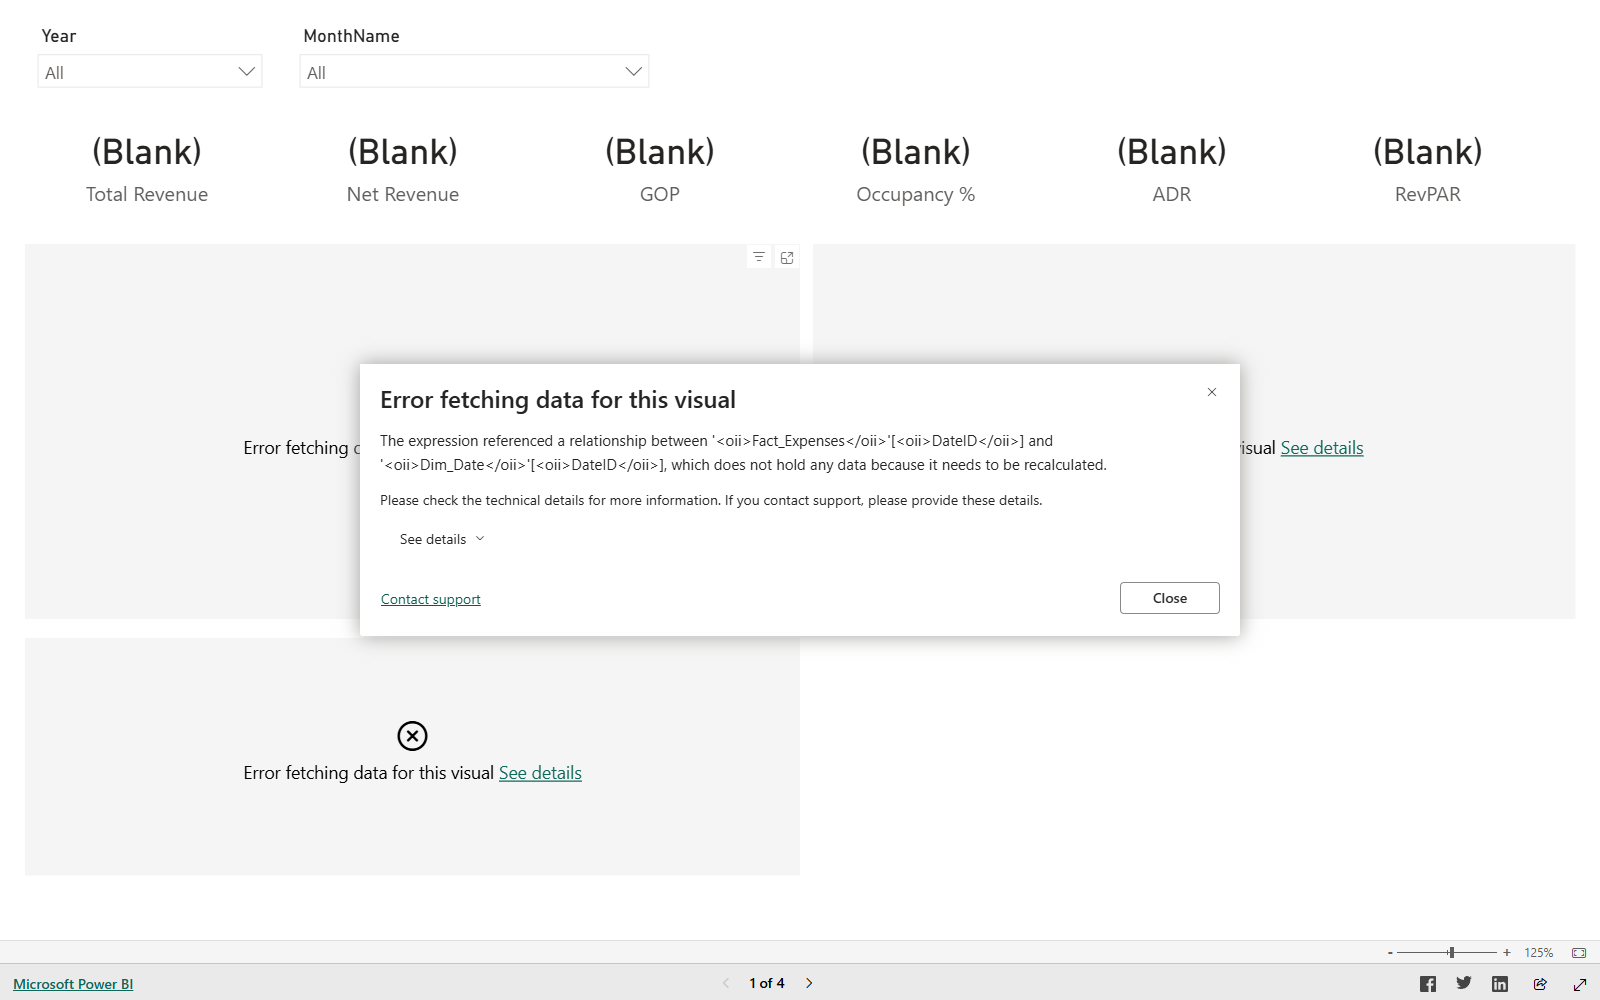

The page's visual inventory and layout, read from the dashboard file:
{"tool":"powerbi","page":{"name":"Executive Command Center","canvas":[1280,720],"ordinal":0},"visuals":[{"type":"card","fields":{"Values":["_Measures.Total Revenue"]},"box":[20,80,195,100],"z":0},{"type":"card","fields":{"Values":["_Measures.Net Revenue"]},"box":[225,80,195,100],"z":1},{"type":"card","fields":{"Values":["_Measures.GOP"]},"box":[430,80,195,100],"z":2},{"type":"card","fields":{"Values":["_Measures.Occupancy %"]},"box":[635,80,195,100],"z":3},{"type":"card","fields":{"Values":["_Measures.ADR"]},"box":[840,80,195,100],"z":4},{"type":"card","fields":{"Values":["_Measures.RevPAR"]},"box":[1045,80,195,100],"z":5},{"type":"lineStackedColumnComboChart","fields":{"Category":["Dim_Date.MonthName"],"ColumnY":["_Measures.Total Revenue","_Measures.Total Expenses"],"Y":["_Measures.Total Expenses"]},"box":[20,195,620,300],"z":6},{"type":"waterfallChart","fields":{"Category":["Dim_Date.MonthName"],"Y":["_Measures.Total Revenue"]},"box":[650,195,610,300],"z":7},{"type":"pivotTable","fields":{"Rows":["Dim_Department.DepartmentName"],"Values":["_Measures.Total Revenue","_Measures.Total Expenses","_Measures.GOP Margin %"]},"box":[20,510,620,190],"z":8},{"type":"slicer","fields":{"Values":["Dim_Date.Year"]},"box":[19.9,14.8,199.9,56.3],"z":9},{"type":"slicer","fields":{"Values":["Dim_Date.MonthName"]},"box":[230,14.8,299.9,56.3],"z":10}]}

Visuals, with their boxes on the page's 1280x720 design canvas (x1, y1, x2, y2). These are canvas units, not pixel positions in the 1600x1000 screenshot, which may show the page scaled, cropped or inside an application window:
card - _Measures.Total Revenue: 20:80:215:180
card - _Measures.Net Revenue: 225:80:420:180
card - _Measures.GOP: 430:80:625:180
card - _Measures.Occupancy %: 635:80:830:180
card - _Measures.ADR: 840:80:1035:180
card - _Measures.RevPAR: 1045:80:1240:180
lineStackedColumnComboChart - Dim_Date.MonthName x _Measures.Total Revenue: 20:195:640:495
waterfallChart - Dim_Date.MonthName x _Measures.Total Revenue: 650:195:1260:495
pivotTable - Dim_Department.DepartmentName x _Measures.Total Revenue: 20:510:640:700
slicer - Dim_Date.Year: 20:15:220:71
slicer - Dim_Date.MonthName: 230:15:530:71
